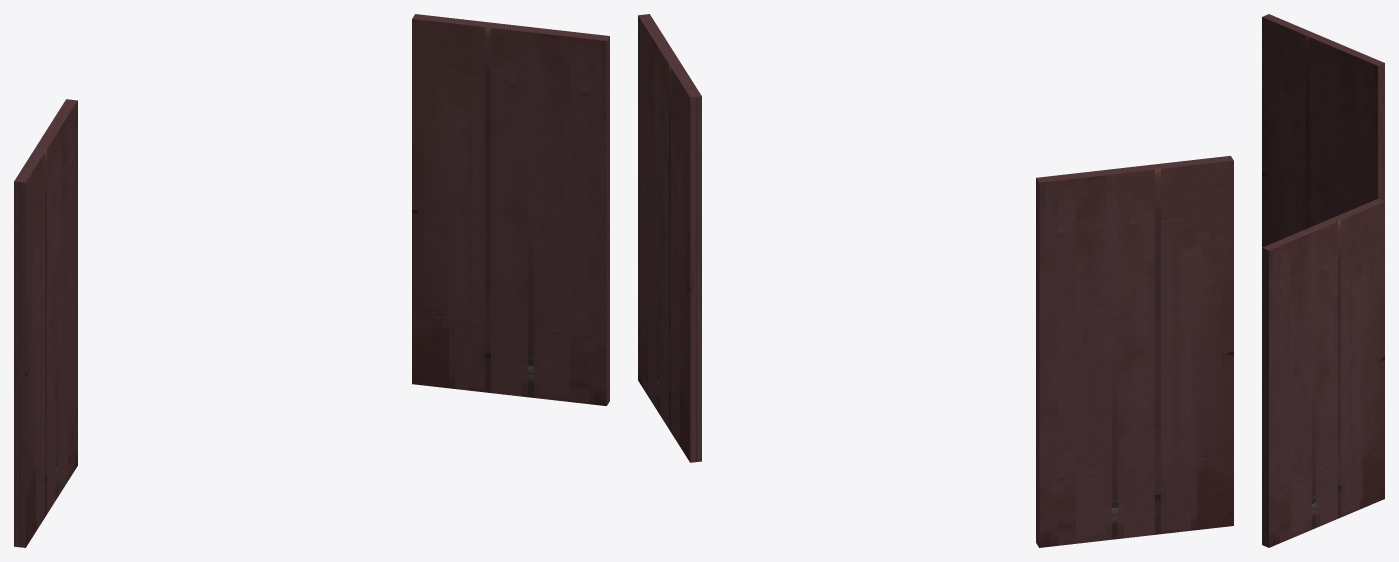
The model's file is shutters_double_open_02.glb.
3 renders of one model, left to right at view 1: azimuth 30°, elevation 25°; view 2: azimuth 150°, elevation 25°; view 3: azimuth 270°, elevation 25°, orthographic. The views are drawn at different scales.
Visible parts, largest first — view 1: shutters_double_open_022; view 2: shutters_double_open_022; view 3: shutters_double_open_022.
Part boxes in pixels (x1,y1,x2,y2): shutters_double_open_022: (14, 14, 609, 547); shutters_double_open_022: (638, 14, 1233, 547); shutters_double_open_022: (1262, 14, 1384, 547).
Bounding box in the file's own units: 3.41 × 2 × 0.7495.
Materials: 1 (1 with a texture image).
